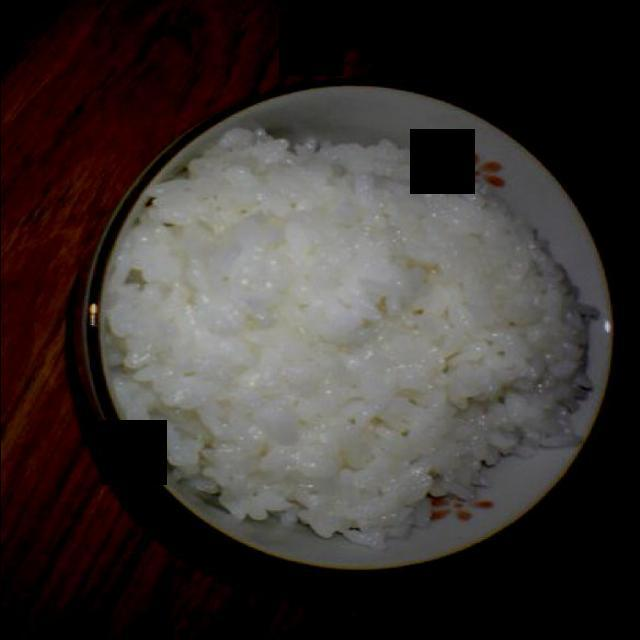rice: (107, 126, 591, 540)
